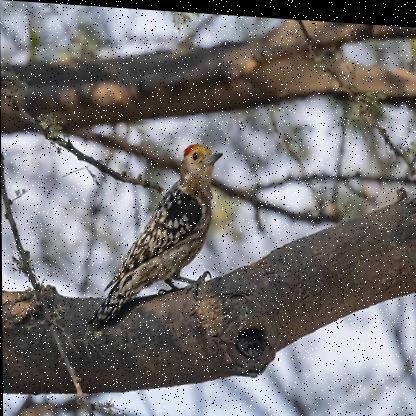Burung: (86, 135, 224, 331)
